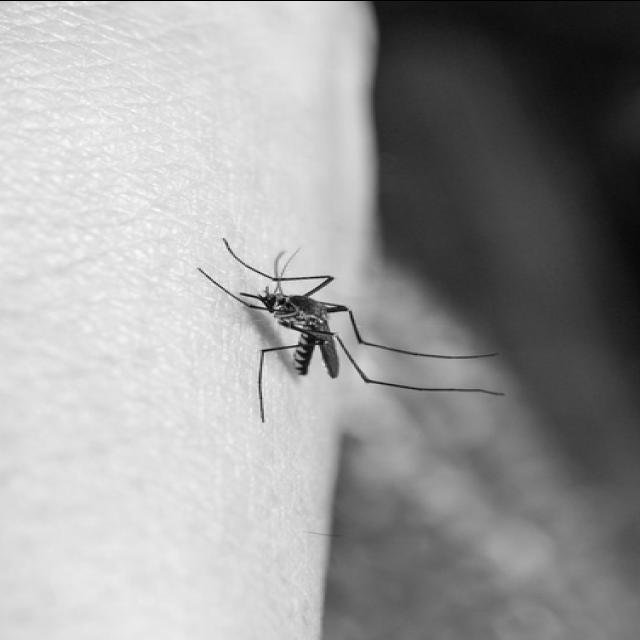Mosquito: (186, 193, 516, 474)
